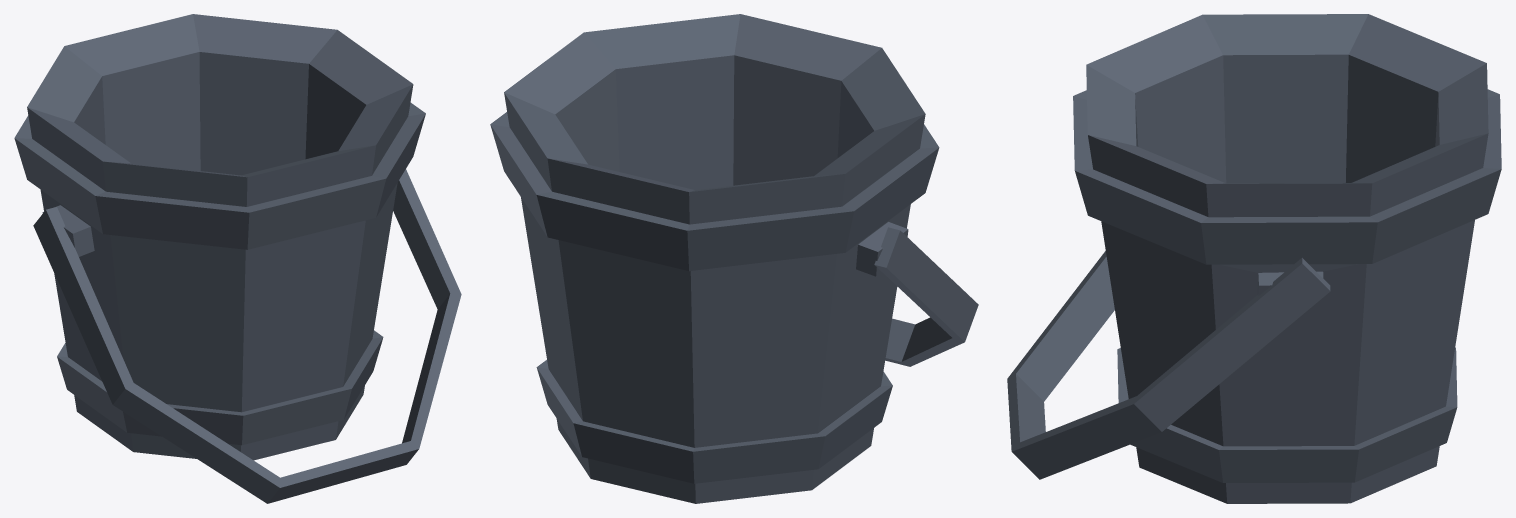
Rendered from bucket-compressed.glb.
3 renders of one model, left to right at view 1: azimuth 30°, elevation 25°; view 2: azimuth 150°, elevation 25°; view 3: azimuth 270°, elevation 25°, orthographic. The views are drawn at different scales.
Parts seen in each view (by area): view 1: bucket; view 2: bucket; view 3: bucket.
Part boxes in pixels (bbox=[...]): bucket: bbox=[14, 14, 461, 503]; bucket: bbox=[490, 14, 978, 503]; bucket: bbox=[1007, 14, 1501, 503].
Bounding box in the file's own units: 0.4665 × 0.3999 × 0.5214.
